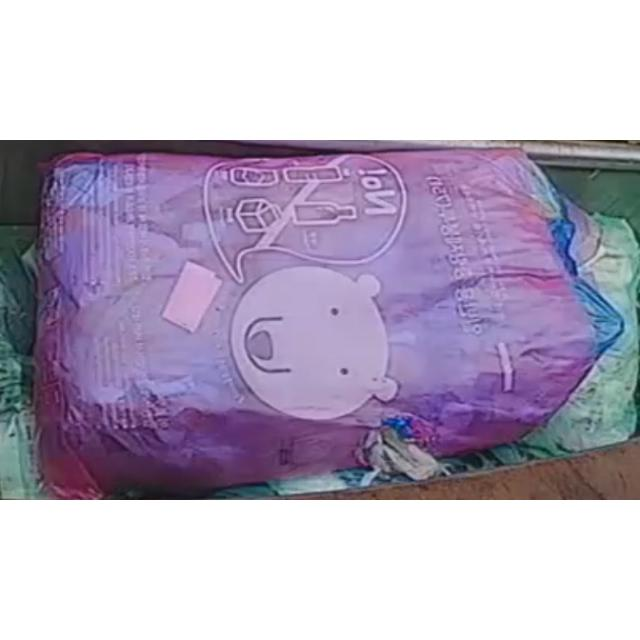other_trashbag: (38, 150, 628, 496)
